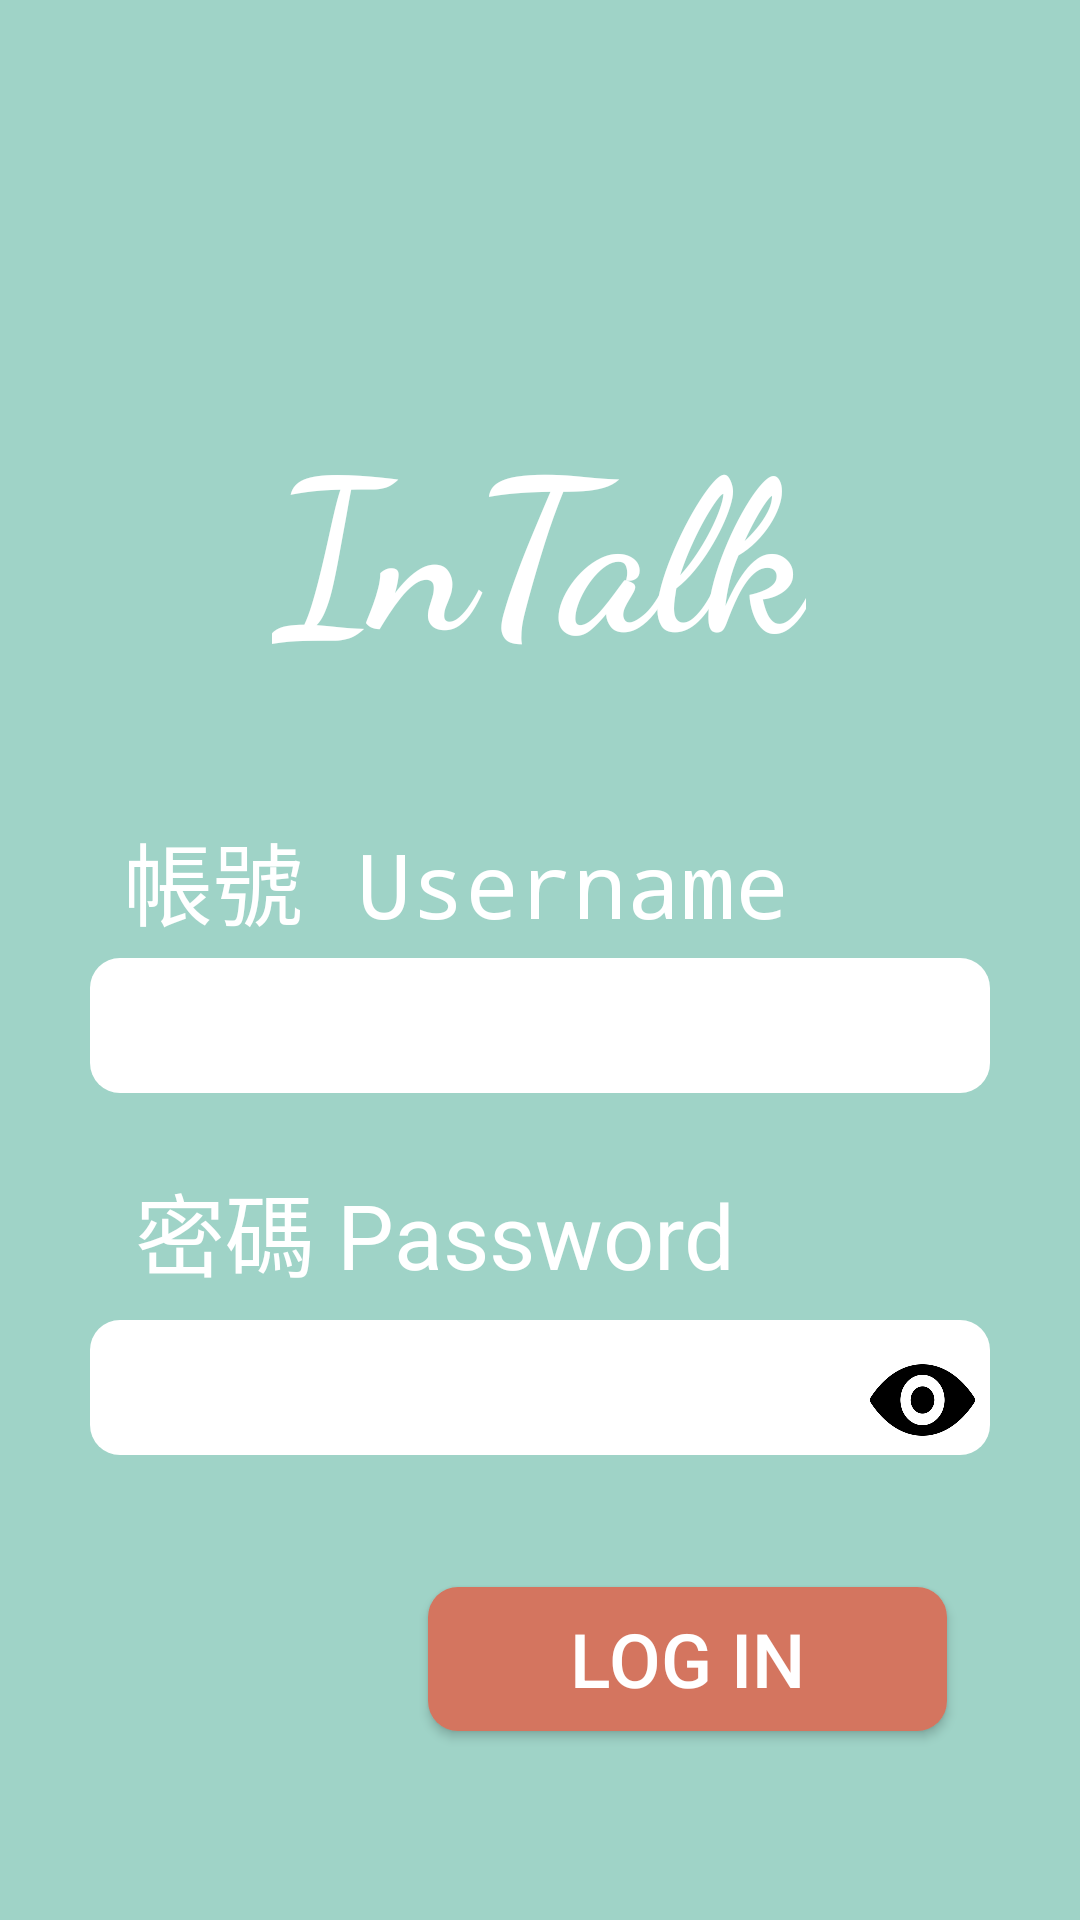

Named icons in this screenshot (1080 × 1920) and their bounding boxes, box(x1, y1, x2, y2):
eye: box(870, 1364, 975, 1436)
